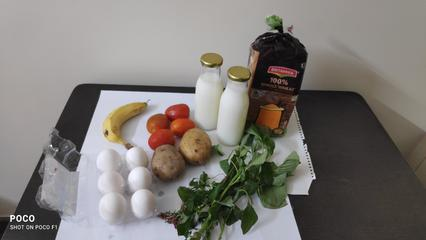banana: (103, 96, 146, 142)
bread: (252, 26, 303, 136)
eggs: (97, 148, 156, 219)
milk: (195, 45, 250, 141)
potato: (149, 137, 214, 173)
spinach: (166, 149, 285, 231)
tomato: (143, 104, 195, 144)
